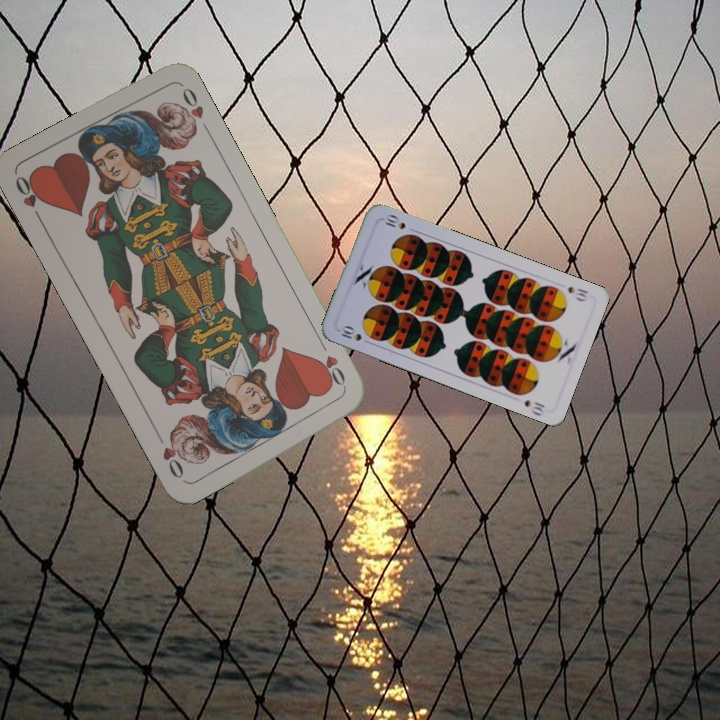HO: (313, 337, 350, 393), (11, 171, 47, 227)
S10: (337, 321, 374, 347), (563, 282, 591, 304)
